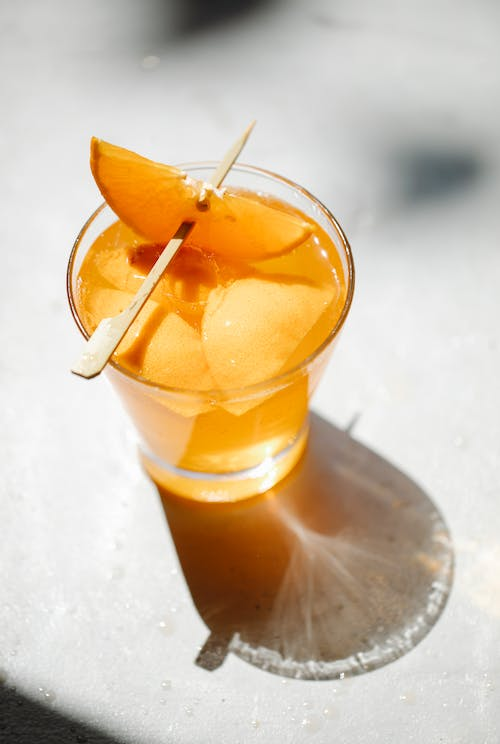alcohol: (64, 158, 357, 503)
